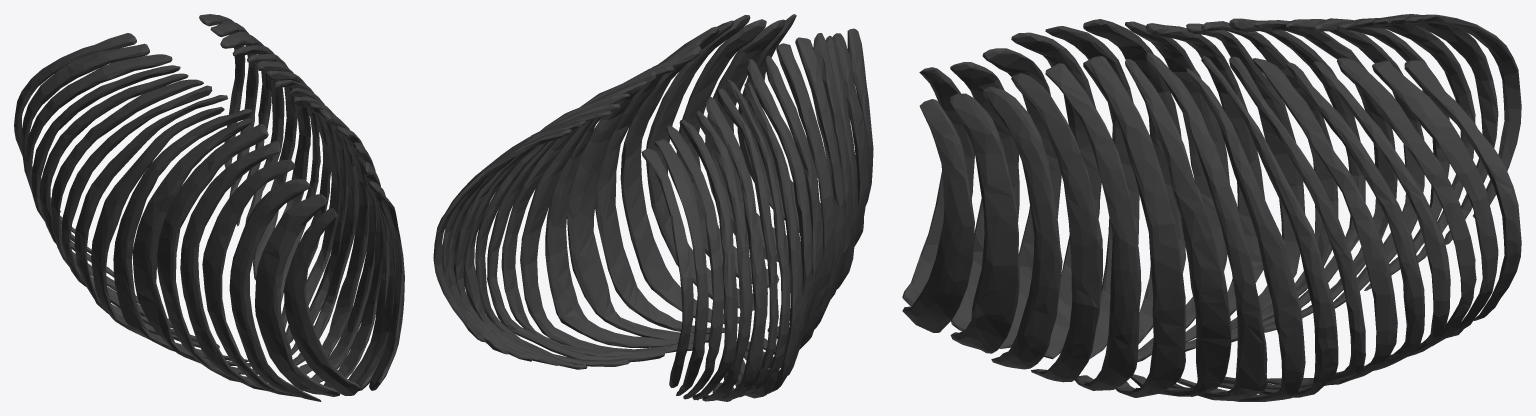
File: m_intercostals_external.glb
3 renders of one model, left to right at view 1: azimuth 30°, elevation 25°; view 2: azimuth 150°, elevation 25°; view 3: azimuth 270°, elevation 25°, orthographic. The views are drawn at different scales.
Parts seen in each view (by area): view 1: m_intercostals_external; view 2: m_intercostals_external; view 3: m_intercostals_external.
Part boxes in pixels (box(x1,y1,x2,y2)): m_intercostals_external: box(14, 14, 404, 401); m_intercostals_external: box(433, 14, 873, 401); m_intercostals_external: box(902, 14, 1521, 401).
Bounding box in the file's own units: 0.00794 × 0.0079 × 0.0132.
1 material, 1 textured.
